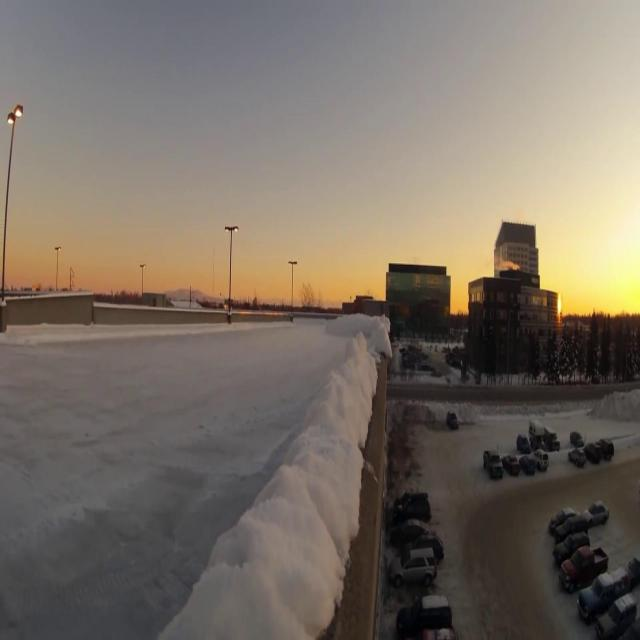fire: (599, 283, 628, 307)
